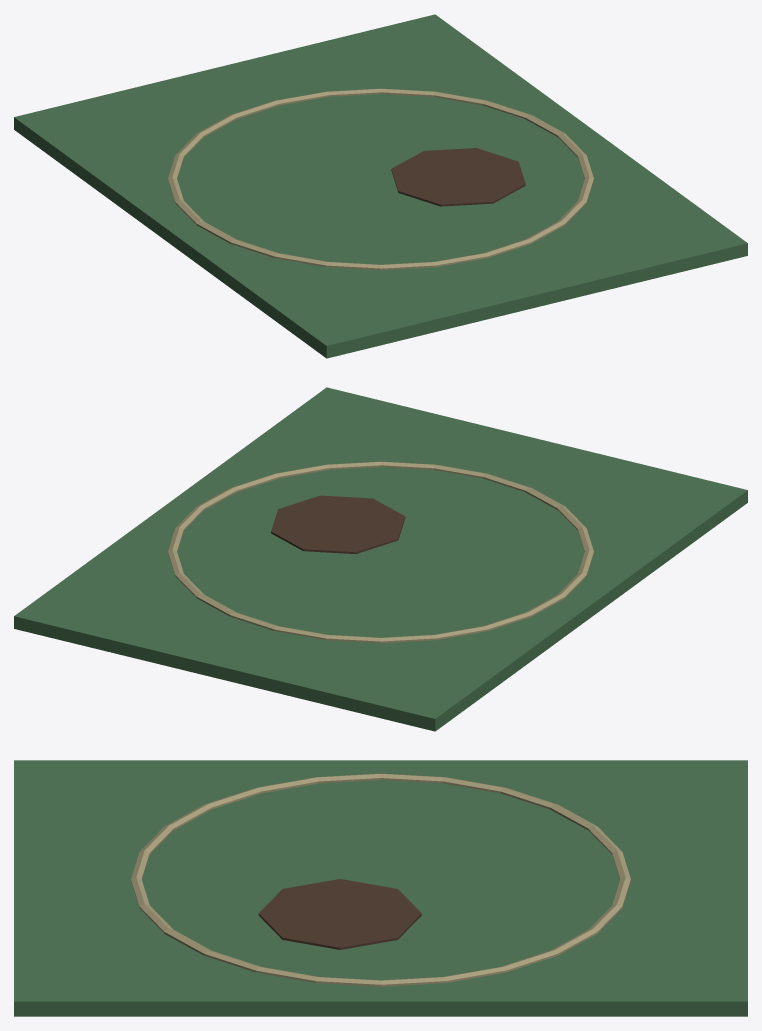
File: garden.gltf
3 views of the same model, one above another, from view 1: azimuth 30°, elevation 25°; view 2: azimuth 150°, elevation 25°; view 3: azimuth 270°, elevation 25° (orthographic). The views are drawn at different scales.
Visible parts, largest first — view 1: grass, border, soil; view 2: grass, border, soil; view 3: grass, border, soil.
Part boxes in pixels (x1,y1,x2,y2): grass: [14, 14, 747, 358]; border: [168, 88, 593, 270]; soil: [391, 148, 525, 206]; grass: [14, 387, 747, 731]; border: [168, 461, 593, 643]; soil: [271, 495, 405, 553]; grass: [14, 760, 747, 1016]; border: [131, 773, 630, 986]; soil: [258, 879, 421, 949].
Bounding box in the file's own units: 14 × 0.505 × 18.
